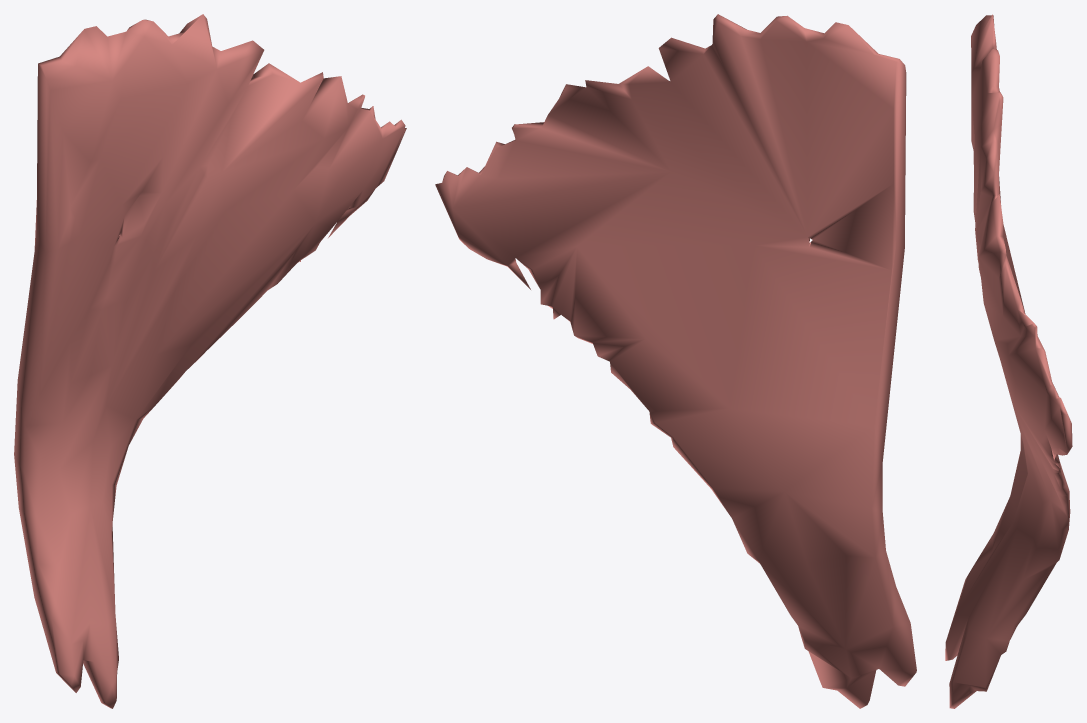
3 views of the same model, side by side, from view 1: azimuth 30°, elevation 25°; view 2: azimuth 150°, elevation 25°; view 3: azimuth 270°, elevation 25° (orthographic). The views are drawn at different scales.
Parts seen in each view (by area): view 1: ZA_ca9c43b31448f8d7; view 2: ZA_ca9c43b31448f8d7; view 3: ZA_ca9c43b31448f8d7.
Part boxes in pixels (<box>): ZA_ca9c43b31448f8d7: <box>14,14,406,708</box>; ZA_ca9c43b31448f8d7: <box>435,14,916,708</box>; ZA_ca9c43b31448f8d7: <box>945,14,1072,708</box>.
Size of the model in its own units: 0.0232 by 0.0365 by 0.00609.
